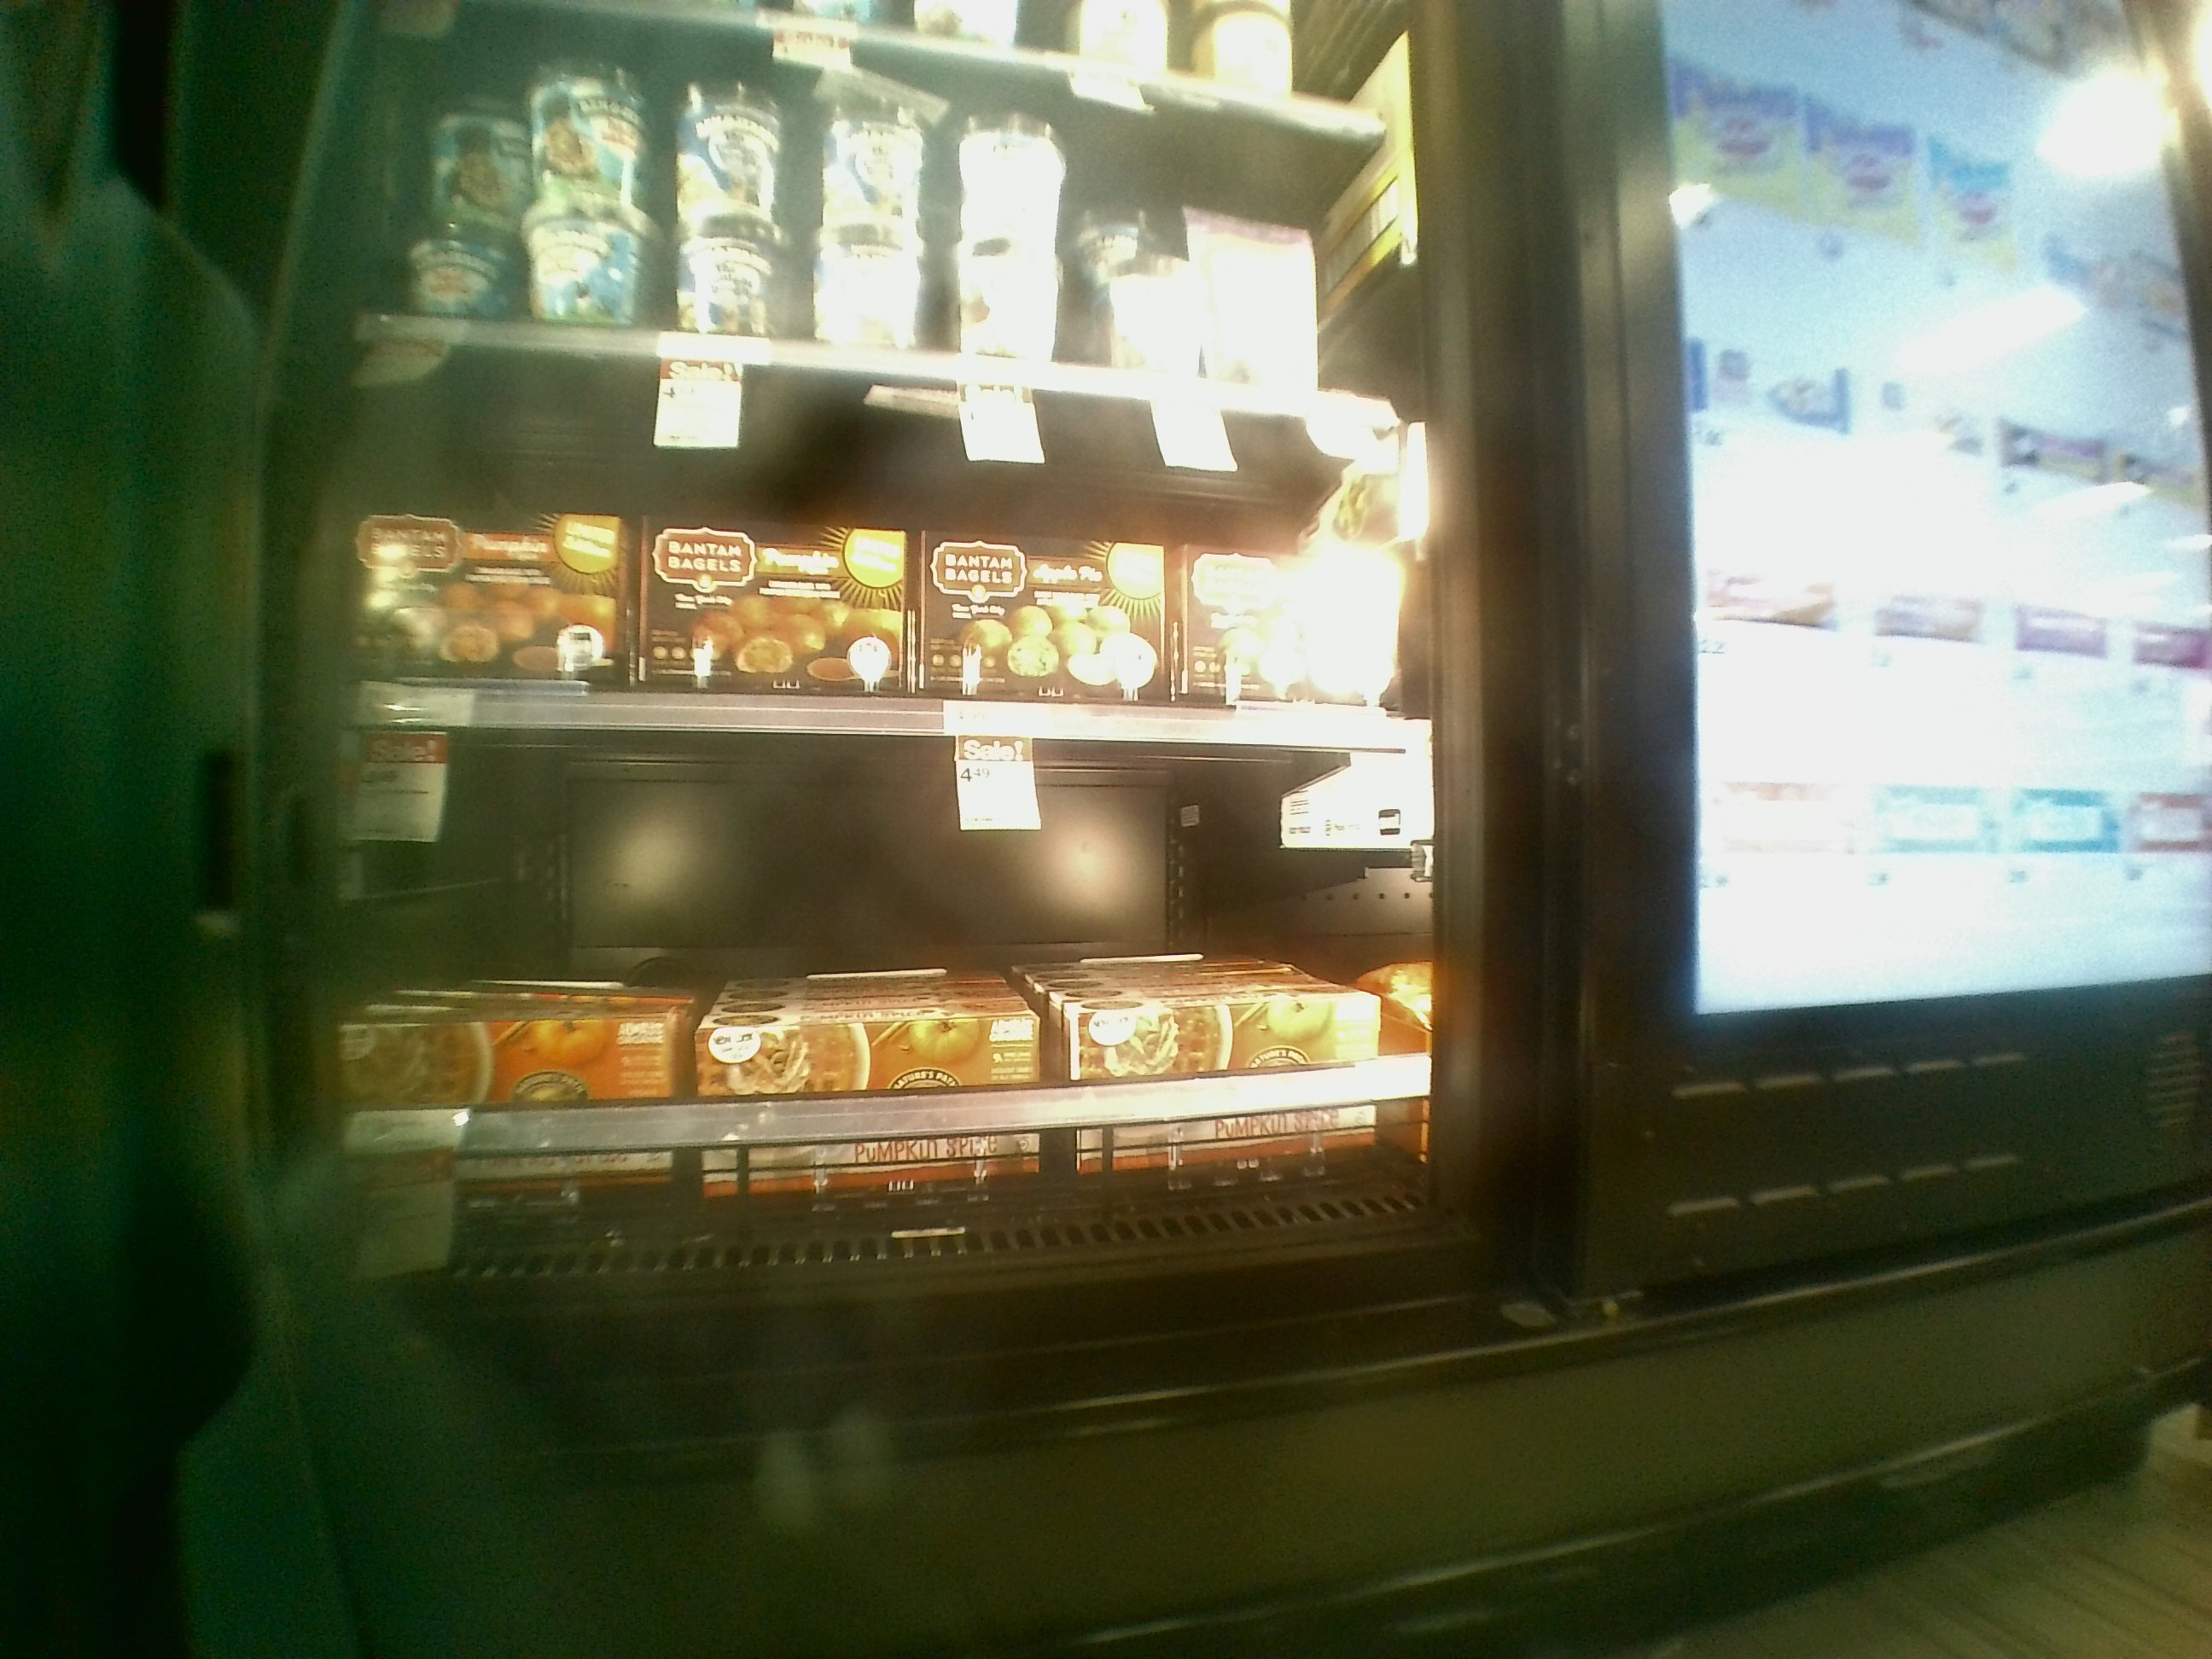shelf: (312, 706, 1460, 1290), (329, 347, 1439, 749)
